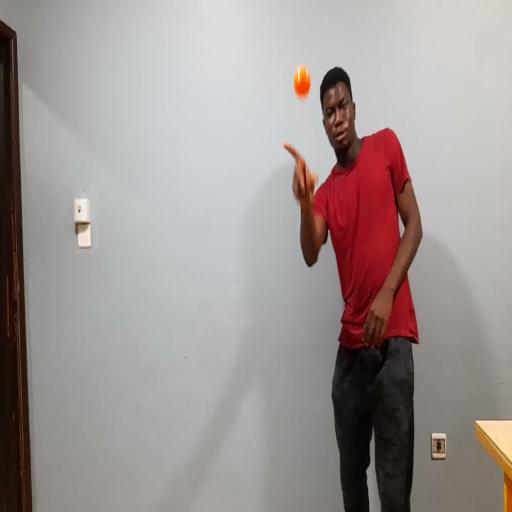plastic-ball: (292, 62, 314, 106)
